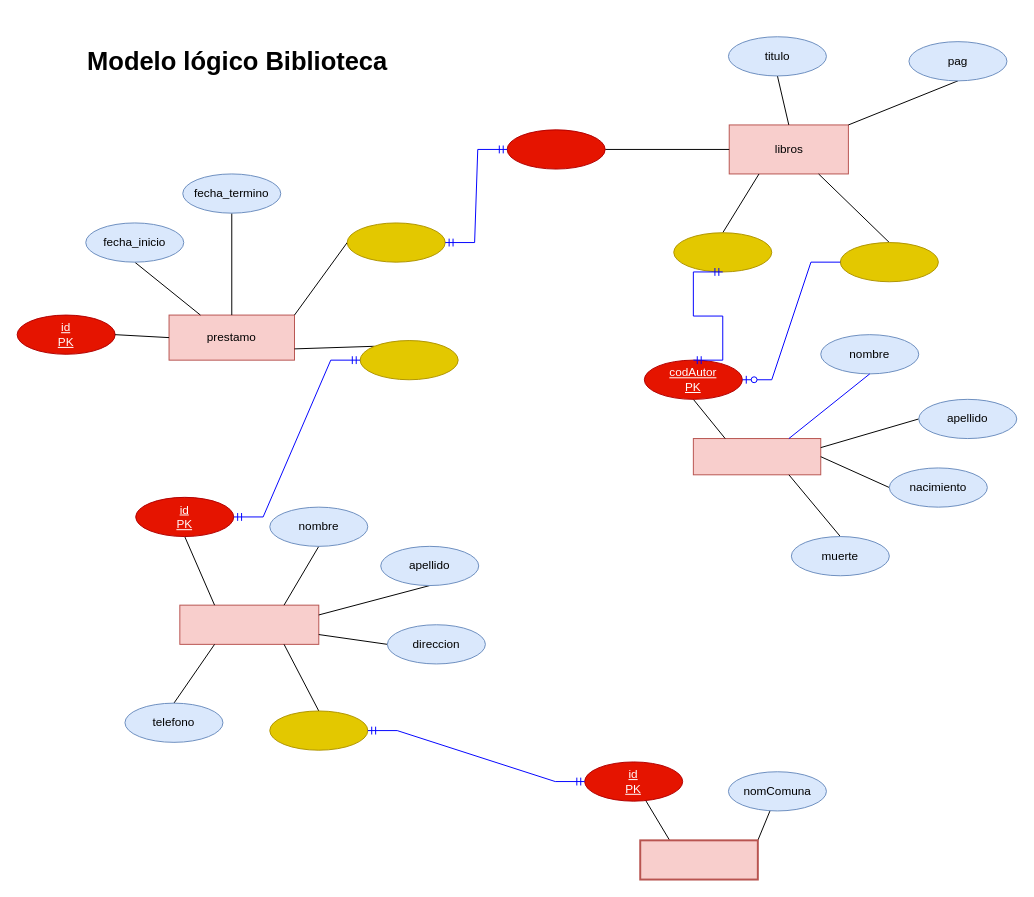
This 1034x897 diagram has some shape labels left out. The box of each missing label's shape, as (x1, y1, x2, y2) in pixels:
autor: (692, 438, 821, 475)
comuna: (639, 839, 758, 880)
id_autor FK: (673, 232, 772, 272)
id_coautor FK: (839, 242, 938, 282)
id_comuna FK: (269, 710, 368, 750)
id_libro FK: (346, 222, 445, 262)
id_socio FK: (359, 340, 458, 380)
isbn PK: (506, 129, 605, 169)
socios: (179, 604, 319, 644)
